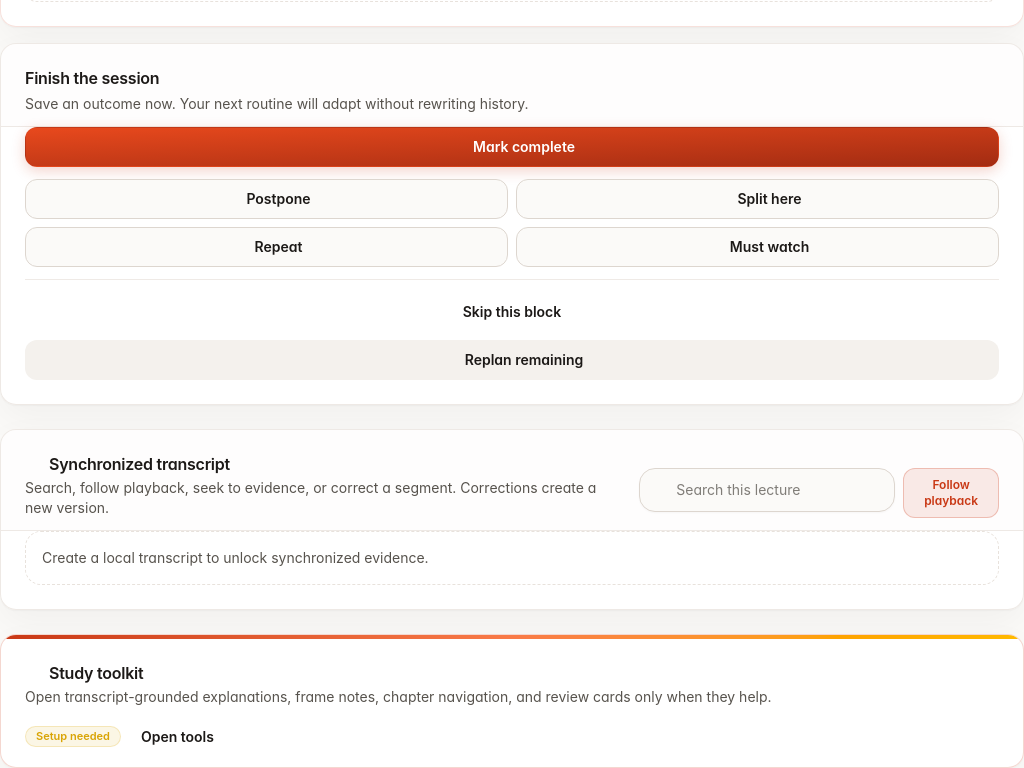
Test: PlayerRoute › blocks cloud learning actions until OpenRouter is configured
(page scrolled)
Click the button "Open tools" at (189, 737), box left=129, top=719, right=250, bottom=755
(page scrolled)
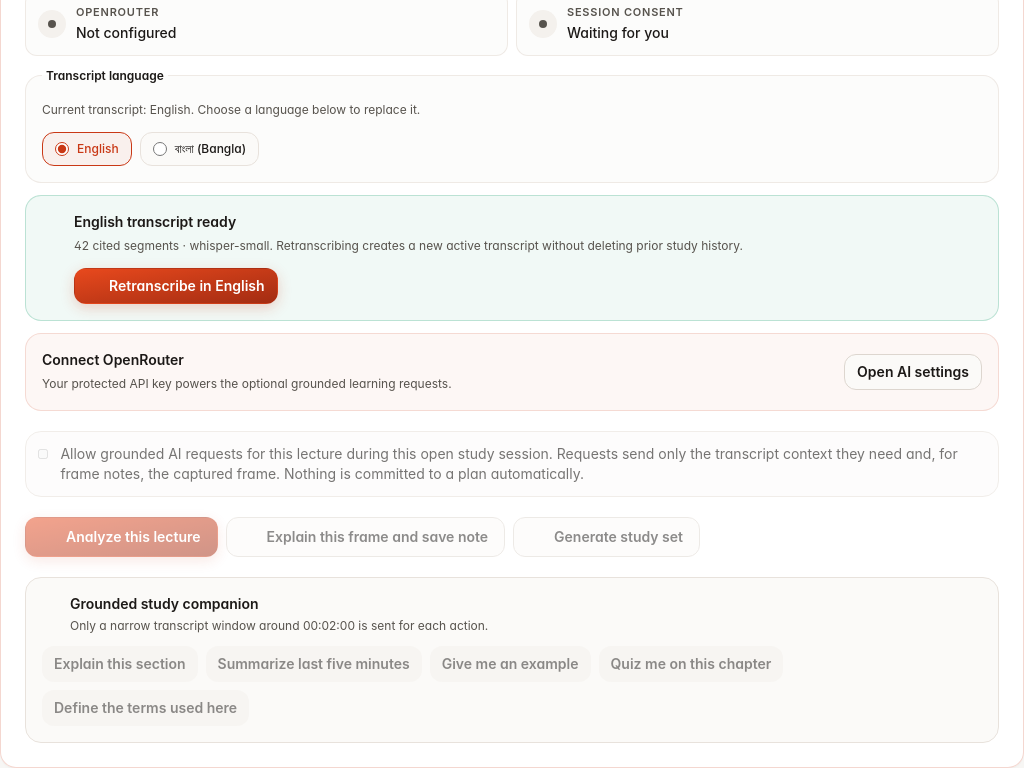
Expected: the checkbox is disabled, left=38, top=446, right=48, bottom=462
Expected: the button "Analyze this lecture" is disabled, left=25, top=517, right=218, bottom=557
